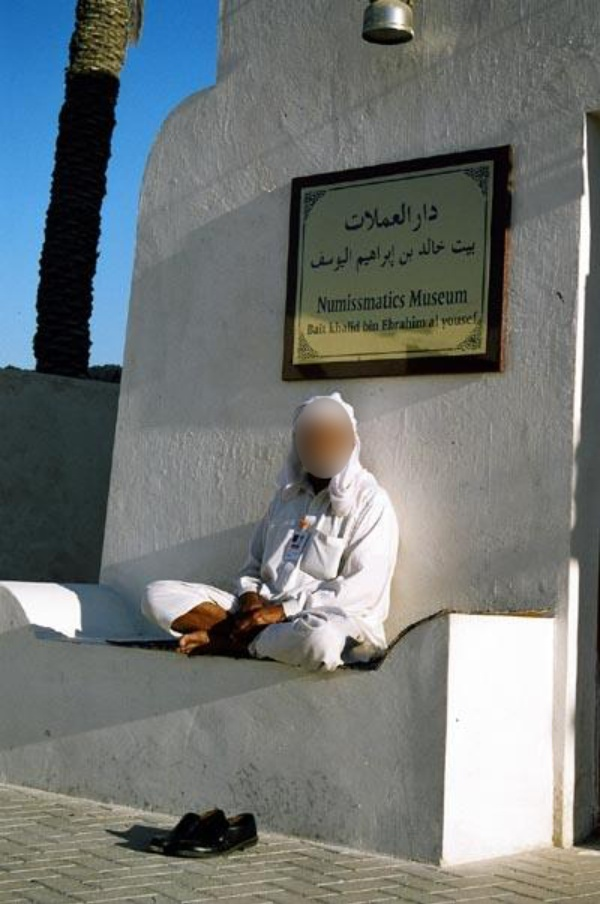text: (369, 240, 384, 278), (417, 201, 432, 237), (353, 200, 368, 233), (369, 200, 384, 233), (385, 200, 400, 233), (337, 243, 353, 273), (385, 240, 397, 278), (321, 243, 336, 273), (321, 290, 336, 317), (337, 290, 352, 317), (353, 290, 368, 317), (369, 290, 384, 317), (385, 290, 400, 317), (358, 240, 368, 278), (401, 200, 412, 233), (433, 201, 443, 237), (342, 200, 352, 233), (417, 287, 432, 308), (433, 287, 448, 308), (449, 287, 464, 308), (449, 311, 464, 332), (449, 237, 464, 257), (310, 243, 320, 273), (465, 311, 479, 332), (385, 314, 400, 333), (401, 314, 416, 333), (465, 237, 479, 257), (433, 234, 446, 255), (401, 245, 414, 266), (337, 318, 352, 335), (305, 321, 320, 336), (401, 290, 409, 317), (422, 234, 432, 255), (417, 314, 427, 333), (314, 290, 320, 317), (353, 318, 362, 335), (409, 287, 416, 308), (412, 201, 416, 237), (369, 318, 379, 332), (433, 312, 440, 330), (442, 311, 448, 332), (329, 318, 336, 335), (465, 287, 469, 308), (362, 318, 368, 332), (321, 321, 326, 336), (428, 312, 432, 330), (382, 314, 384, 333)
